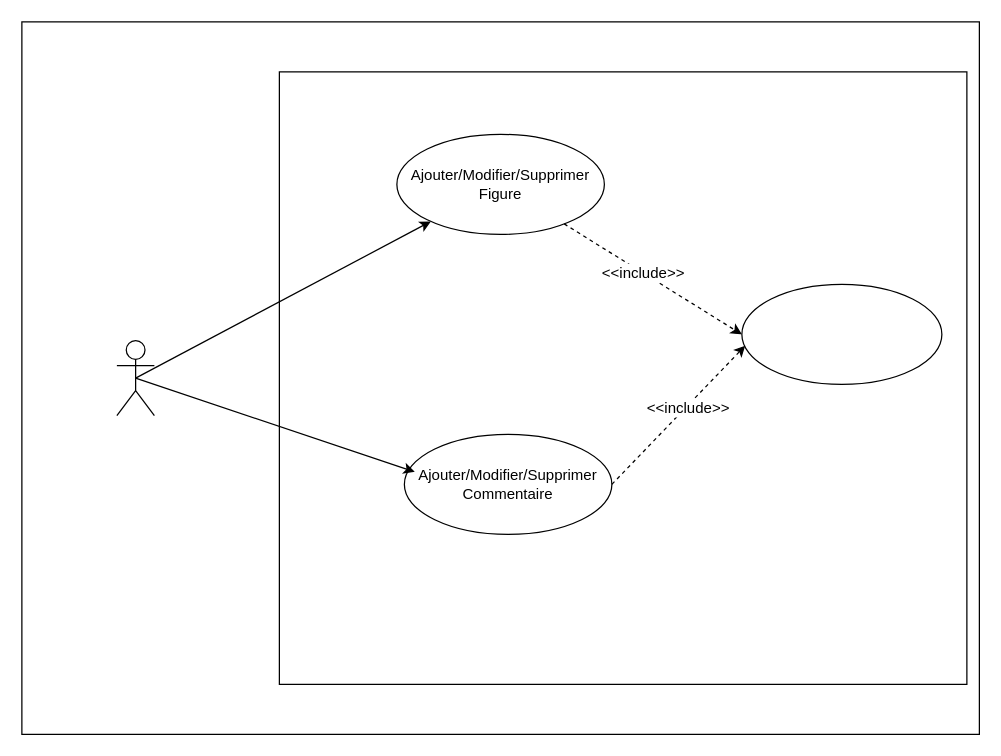
The diagram is 1001 pixels wide and 756 high, and some of its shapes have lost their labels. Here are the shapes that lost their labels. From the top down, the centre of each, then its label:
At [841,333]: "S'authentifier".
At [135,377]: "Utilisateur".
